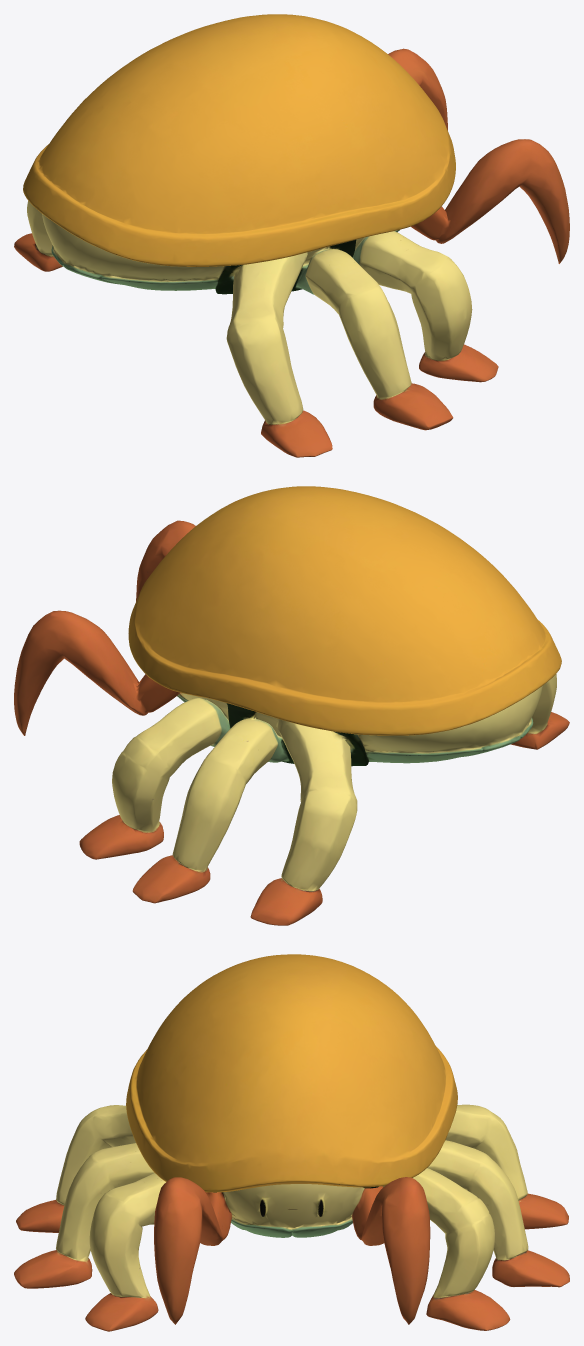
3 renders of one model, top to bottom at view 1: azimuth 30°, elevation 25°; view 2: azimuth 150°, elevation 25°; view 3: azimuth 270°, elevation 25°, orthographic. The views are drawn at different scales.
Parts seen in each view (by area): view 1: tripo_node_5f2aa15f-678e-4969-b6d9-39852b47c598; view 2: tripo_node_5f2aa15f-678e-4969-b6d9-39852b47c598; view 3: tripo_node_5f2aa15f-678e-4969-b6d9-39852b47c598.
Boxes of the visible parts, x1,y1,x2,y2 form: tripo_node_5f2aa15f-678e-4969-b6d9-39852b47c598: [14, 14, 569, 457]; tripo_node_5f2aa15f-678e-4969-b6d9-39852b47c598: [14, 486, 569, 925]; tripo_node_5f2aa15f-678e-4969-b6d9-39852b47c598: [14, 954, 569, 1331].
Size of the model in its own units: 0.9168 by 0.5737 by 1.
1 material, 1 textured.
